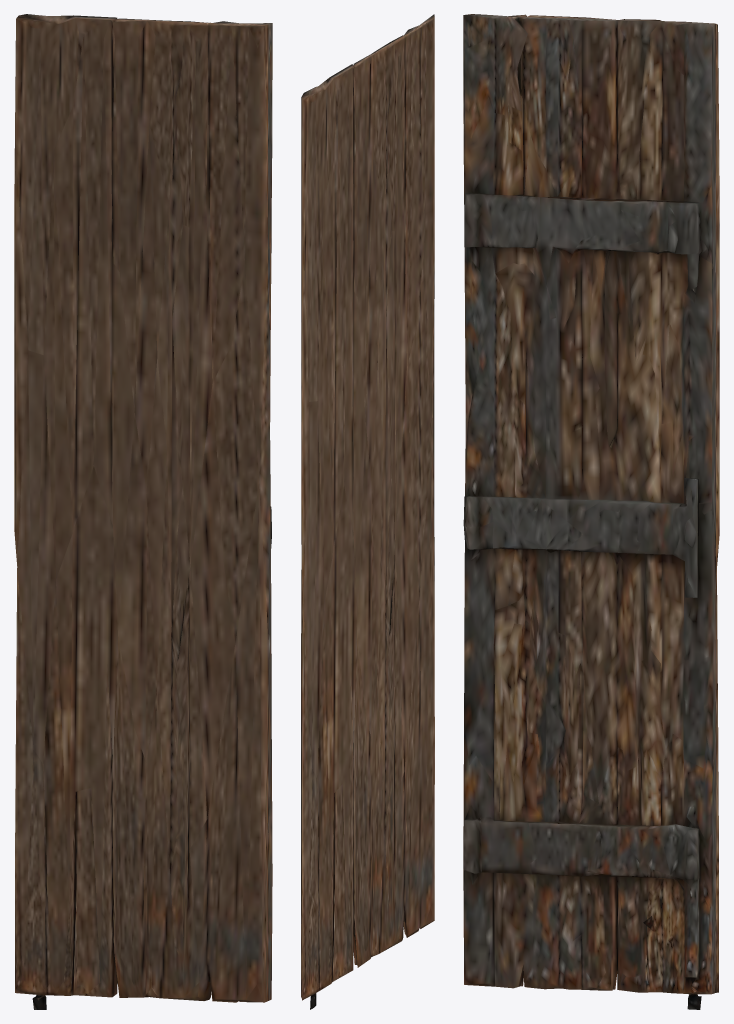
The model's file is bb_gate_steel.fdd1155ebf.glb.
3 views of the same model, side by side, from view 1: azimuth 90°, elevation 25°; view 2: azimuth 150°, elevation 25°; view 3: azimuth 270°, elevation 25° (orthographic). The views are drawn at different scales.
Visible parts, largest first — view 1: bb_gate_steel; view 2: bb_gate_steel; view 3: bb_gate_steel.
Boxes of the visible parts, bbox=[...] form: bb_gate_steel: bbox=[14, 14, 272, 1009]; bb_gate_steel: bbox=[301, 14, 434, 1009]; bb_gate_steel: bbox=[463, 14, 719, 1009].
Bounding box in the file's own units: 0.15 × 5.1 × 1.2.
1 material, 1 textured.
